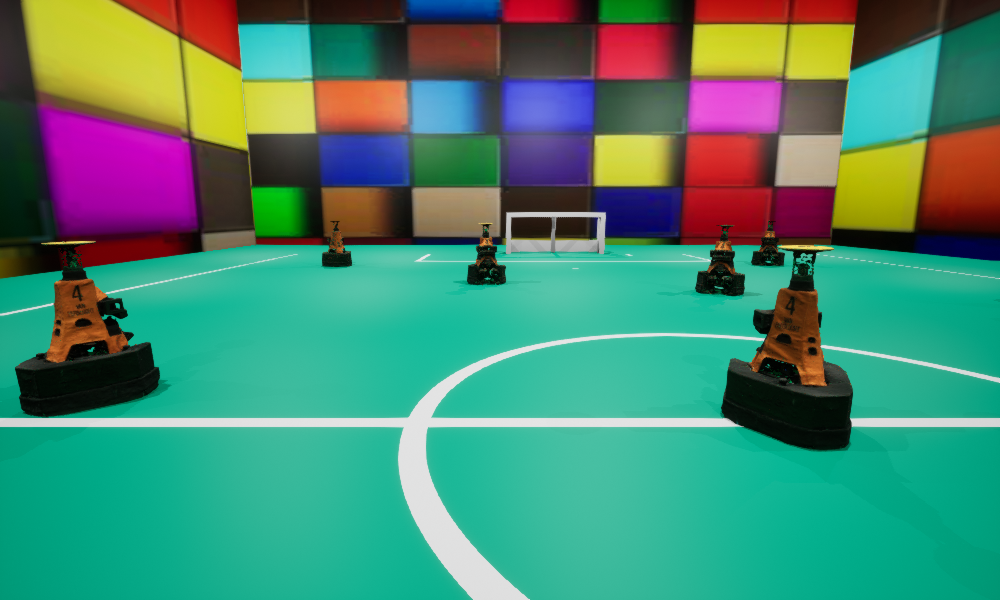o: (721, 245, 852, 449), (15, 241, 159, 416), (695, 225, 744, 294), (467, 223, 505, 284), (751, 220, 784, 265), (322, 221, 351, 266)
